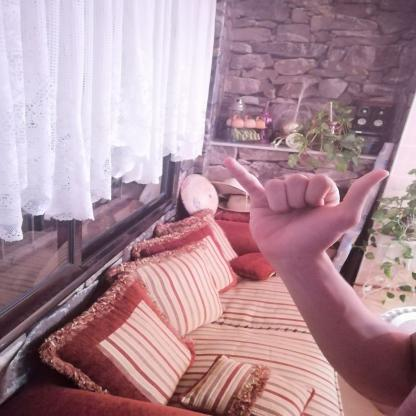YA: (204, 148, 400, 272)
